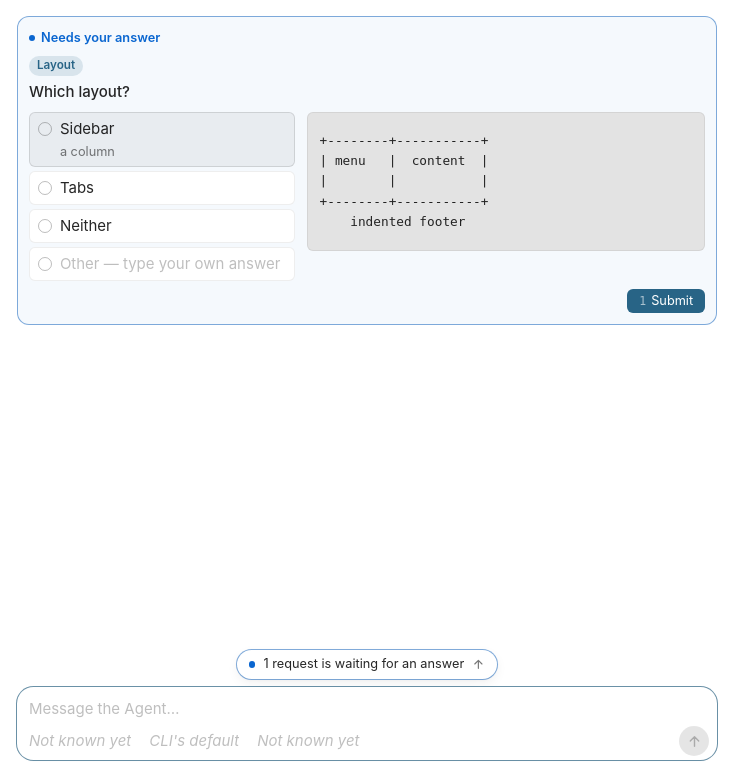
Scenario: a question whose options carry previews › draws Other as a row of its own, checked once something is written
The width and height of the screenshot is (735, 778).
In the text box named "Layout: other": point(173, 264) [60, 252, 286, 276], type "Grid"
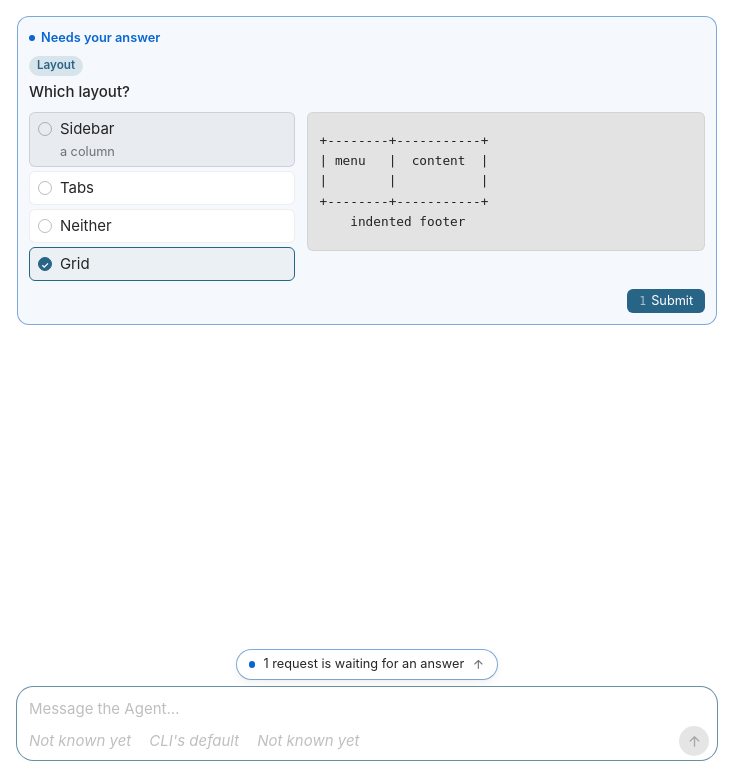
Now the text with class "conversation-question-mark" reads "✓", box [41, 259, 49, 270]
